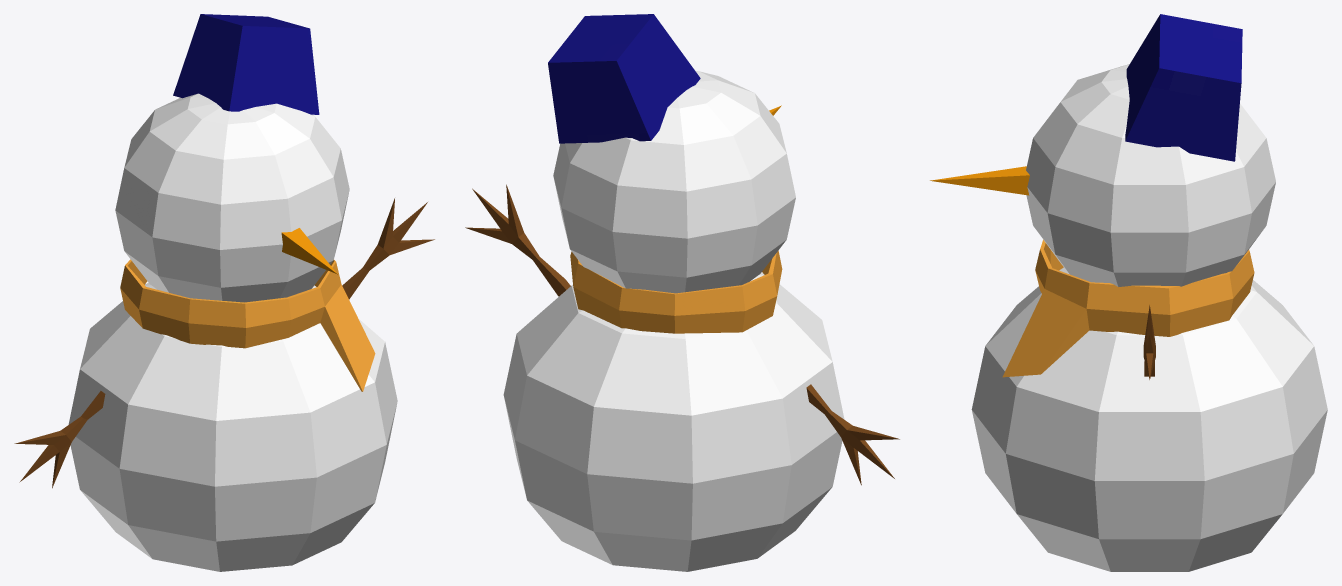
File: Snowman.gltf
3 renders of one model, left to right at view 1: azimuth 30°, elevation 25°; view 2: azimuth 150°, elevation 25°; view 3: azimuth 270°, elevation 25°, orthographic. The views are drawn at different scales.
Visible parts, largest first — view 1: 雪だるま; view 2: 雪だるま; view 3: 雪だるま.
Part boxes in pixels (x1=…): 雪だるま: x1=14, y1=14, x2=434, y2=571; 雪だるま: x1=465, y1=14, x2=899, y2=571; 雪だるま: x1=930, y1=14, x2=1327, y2=571.
Size of the model in its own units: 4.06 by 4.72 by 3.16.
1 material, 1 textured.
